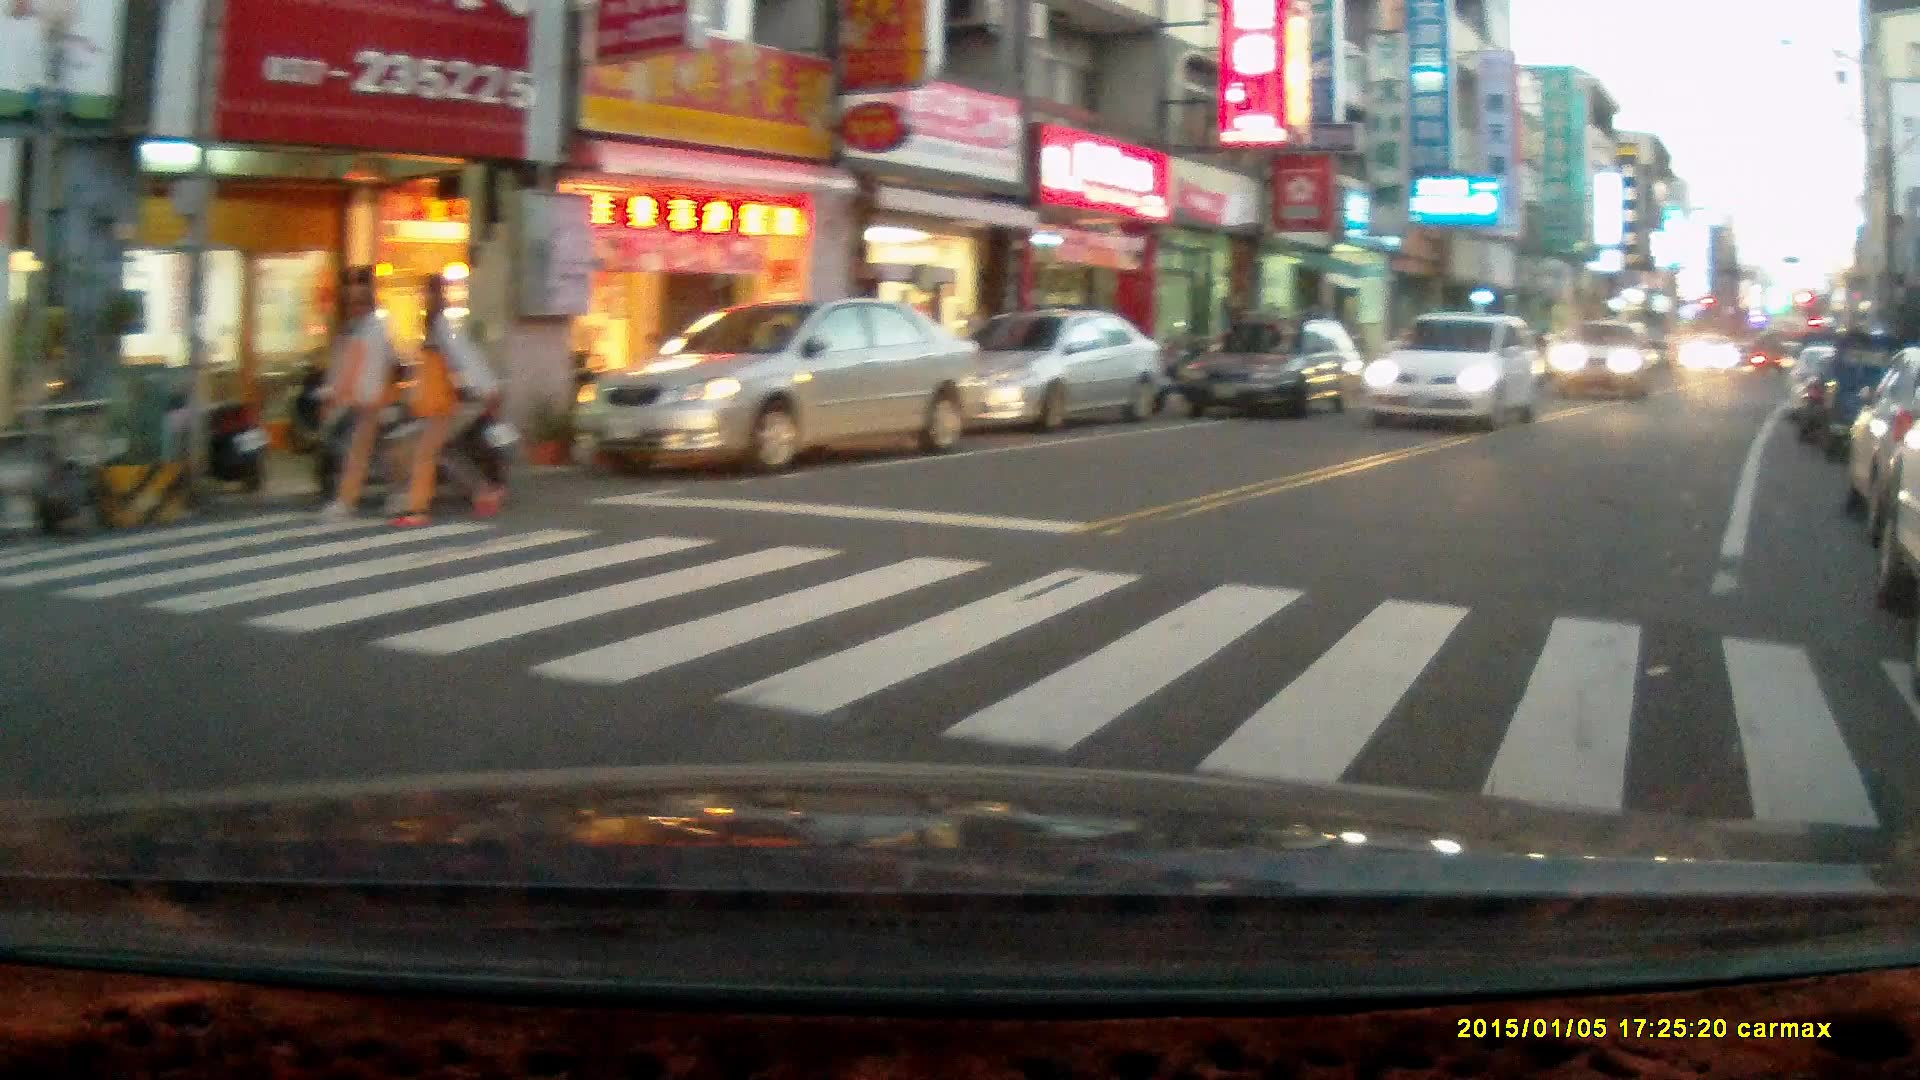pedestrian: (386, 274, 501, 530), (320, 263, 405, 522)
vehicle: (574, 298, 981, 472), (924, 310, 1164, 430), (1360, 311, 1543, 432), (1179, 323, 1369, 425), (1544, 317, 1664, 403), (1681, 334, 1742, 380)
